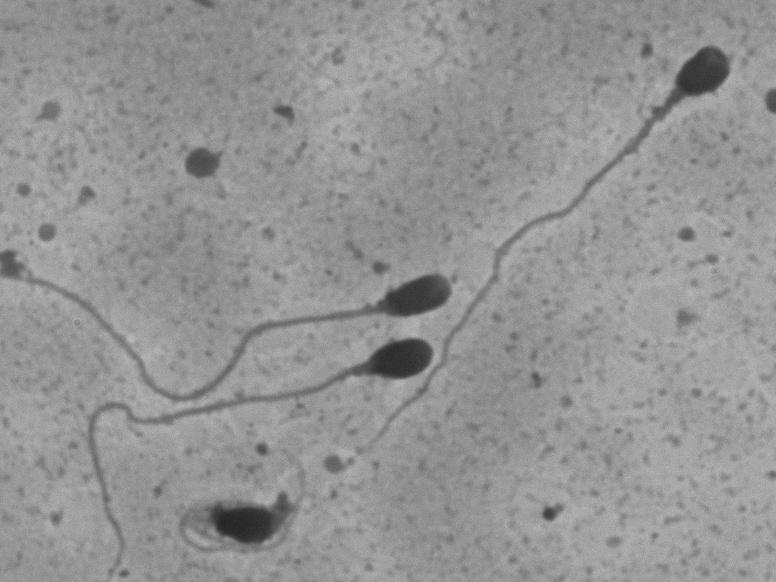Abnormal: (337, 35, 738, 477), (69, 332, 435, 575), (28, 265, 457, 408), (160, 436, 317, 569)
